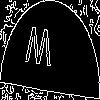W: (25, 25, 53, 76)
